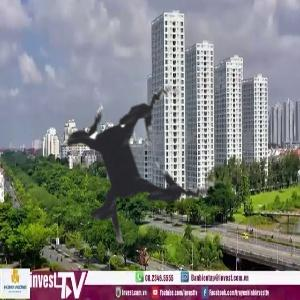drone: (2, 30, 264, 292)
